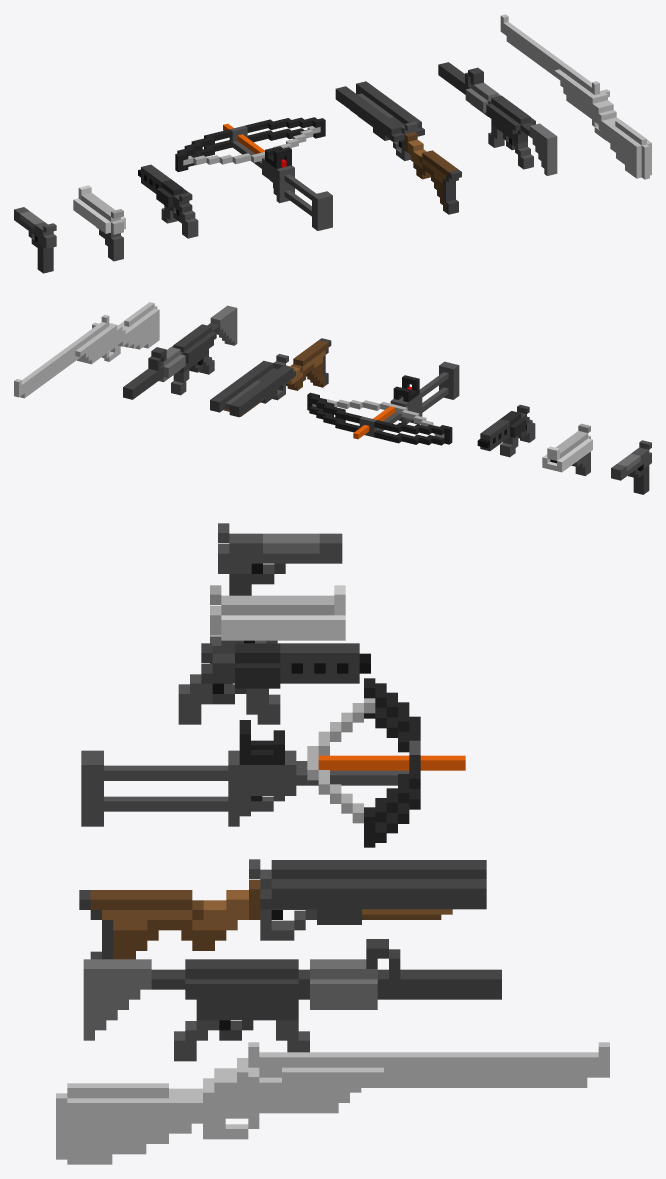
Rendered from allGuns.fbx.
3 renders of one model, top to bottom at view 1: azimuth 30°, elevation 25°; view 2: azimuth 150°, elevation 25°; view 3: azimuth 270°, elevation 25°, orthographic. The views are drawn at different scales.
Visible parts, largest first — view 1: crossbow:Mesh, bolt_rifle:Mesh, shotgun:Mesh, rifle:Mesh, machine_pistol:Mesh, heavy_pistol:Mesh, pistol:Mesh; view 2: crossbow:Mesh, bolt_rifle:Mesh, shotgun:Mesh, rifle:Mesh, machine_pistol:Mesh, heavy_pistol:Mesh, pistol:Mesh; view 3: bolt_rifle:Mesh, shotgun:Mesh, rifle:Mesh, crossbow:Mesh, machine_pistol:Mesh, heavy_pistol:Mesh, pistol:Mesh.
Part boxes in pixels (left/top/right/bottom): crossbow:Mesh: left=175, top=117, right=332, bottom=230; bolt_rifle:Mesh: left=500, top=14, right=651, bottom=179; shotgun:Mesh: left=335, top=81, right=461, bottom=214; rifle:Mesh: left=438, top=62, right=557, bottom=175; machine_pistol:Mesh: left=138, top=164, right=198, bottom=238; heavy_pistol:Mesh: left=73, top=185, right=125, bottom=261; pistol:Mesh: left=14, top=207, right=56, bottom=273; crossbow:Mesh: left=307, top=361, right=459, bottom=445; bolt_rifle:Mesh: left=14, top=302, right=159, bottom=398; shotgun:Mesh: left=210, top=338, right=331, bottom=417; rifle:Mesh: left=123, top=305, right=237, bottom=399; machine_pistol:Mesh: left=477, top=404, right=535, bottom=457; heavy_pistol:Mesh: left=542, top=423, right=592, bottom=476; pistol:Mesh: left=611, top=440, right=651, bottom=494; bolt_rifle:Mesh: left=56, top=1042, right=609, bottom=1164; shotgun:Mesh: left=79, top=859, right=486, bottom=959; rifle:Mesh: left=83, top=939, right=501, bottom=1061; crossbow:Mesh: left=81, top=678, right=465, bottom=847; machine_pistol:Mesh: left=178, top=643, right=370, bottom=724; heavy_pistol:Mesh: left=210, top=585, right=345, bottom=684; pistol:Mesh: left=218, top=523, right=342, bottom=595.
Size of the model in its own units: 11.23 by 1.31 by 4.9.
